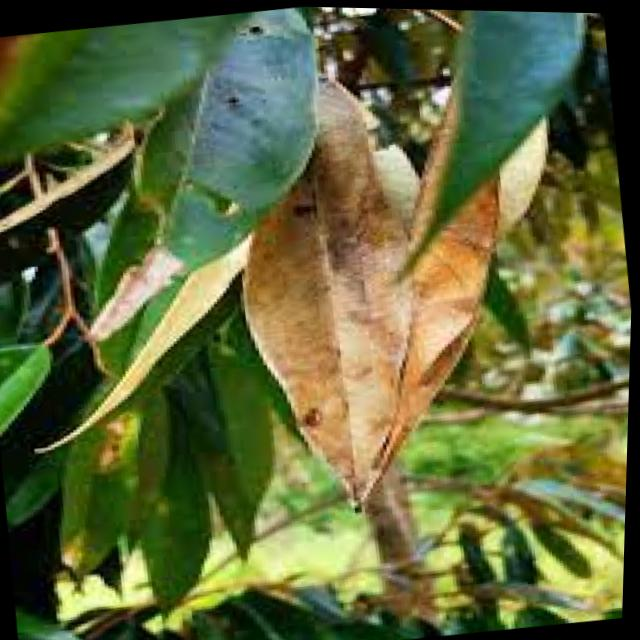Leaf Blight: (227, 168, 448, 522)
